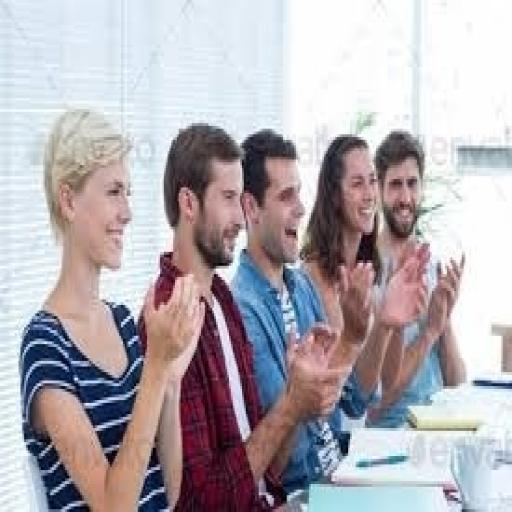clapping: (134, 120, 352, 510), (16, 104, 206, 509), (365, 126, 469, 428)
